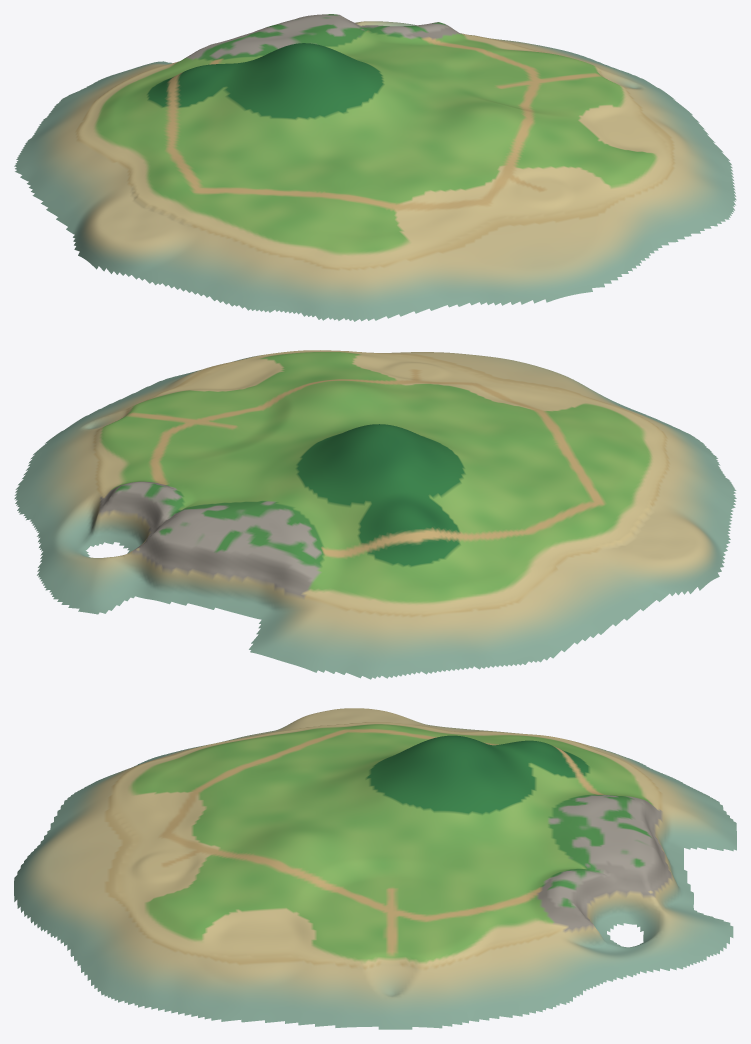
Rendered from island-DFT7SSkZ.glb.
The picture shows the model from 3 angles, top to bottom: view 1: azimuth 30°, elevation 25°; view 2: azimuth 150°, elevation 25°; view 3: azimuth 270°, elevation 25°; orthographic projection. The views are drawn at different scales.
Parts seen in each view (by area): view 1: island; view 2: island; view 3: island.
Part boxes in pixels (left/top/right/bottom): island: left=14, top=14, right=736, bottom=321; island: left=14, top=350, right=736, bottom=679; island: left=14, top=708, right=736, bottom=1029.
Bounding box in the file's own units: 237 × 43.71 × 233.
